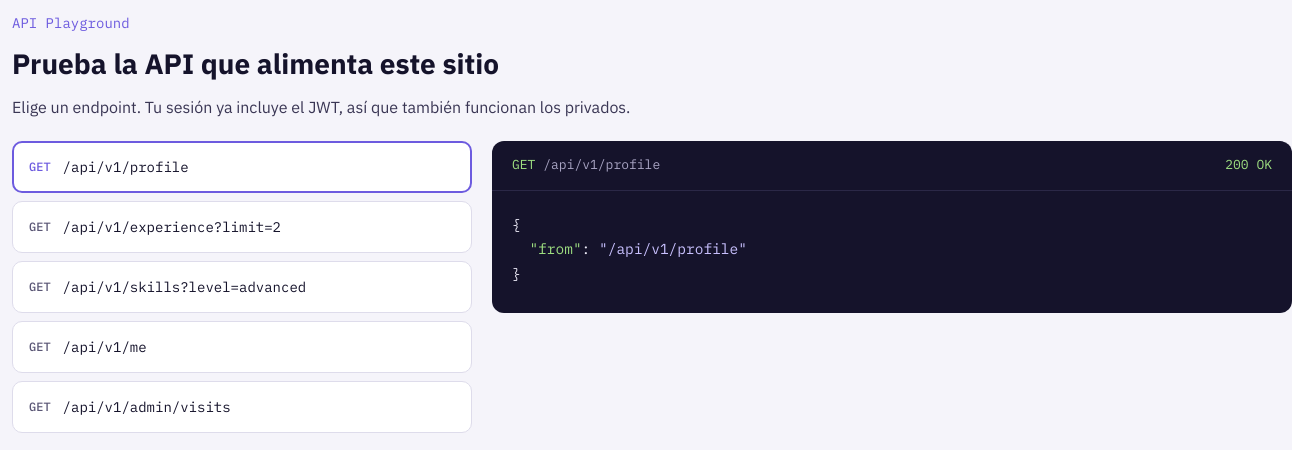
Test: ApiPlayground › shows the dictionary line for a 5xx, and drops it on the next 200
Check: the element showing "GET /api/v1/profile 200 OK { \"from\": \"/api/v1/profile\" }" is shown, box [492,141,1291,312]
Click the button "GET /api/v1/me" at (105, 347), box [12,321,472,373]
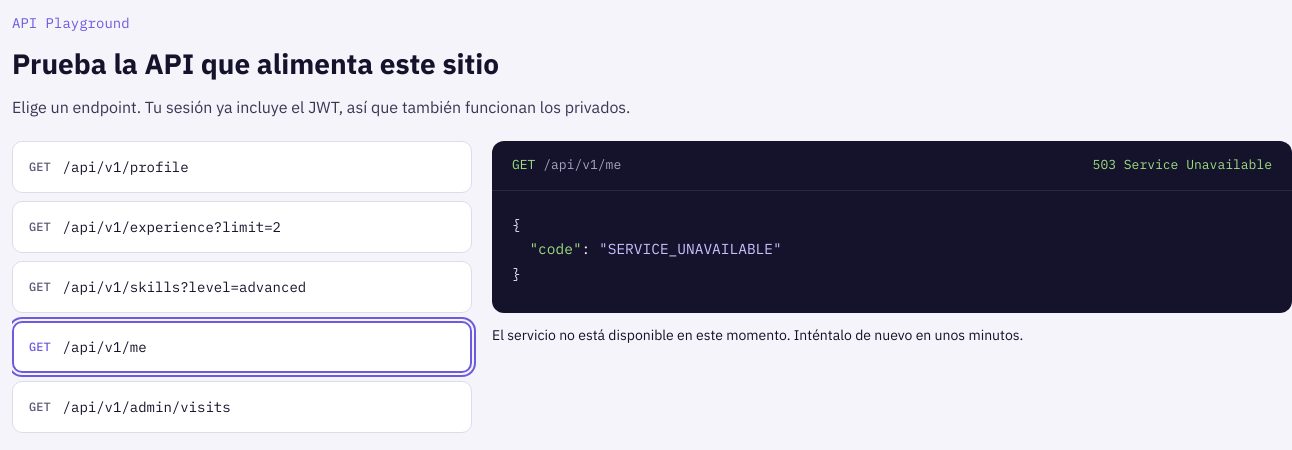
Check: the element named "GET /api/v1/me 503 Service Unavailable" shows "503", box [1093,156,1272,173]
Check: the element named "GET /api/v1/me 503 Service Unavailable" shows "\"code\": \"SERVICE_UNAVAILABLE\"", box [492,141,1291,312]
Check: the text "El servicio no está disponible" is shown, box [492,326,1023,344]
Click the button "GET /api/v1/profile" at (126, 167), box [12,141,472,193]
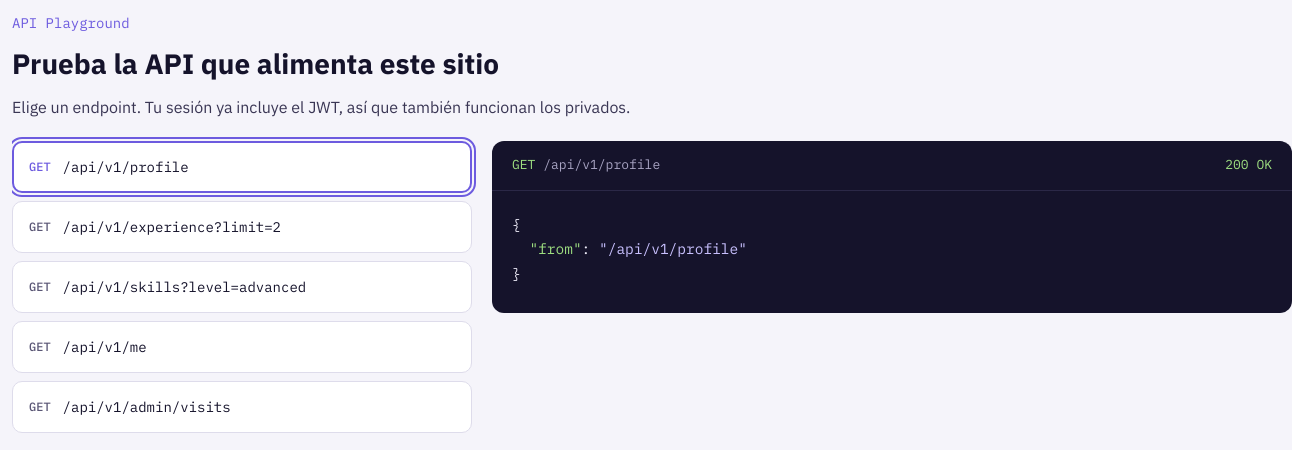
Check: the element showing "GET /api/v1/profile 200 OK { \"from\": \"/api/v1/profile\" }" is shown, box [492,141,1291,312]
Check: the text "El servicio no está disponible" is gone
